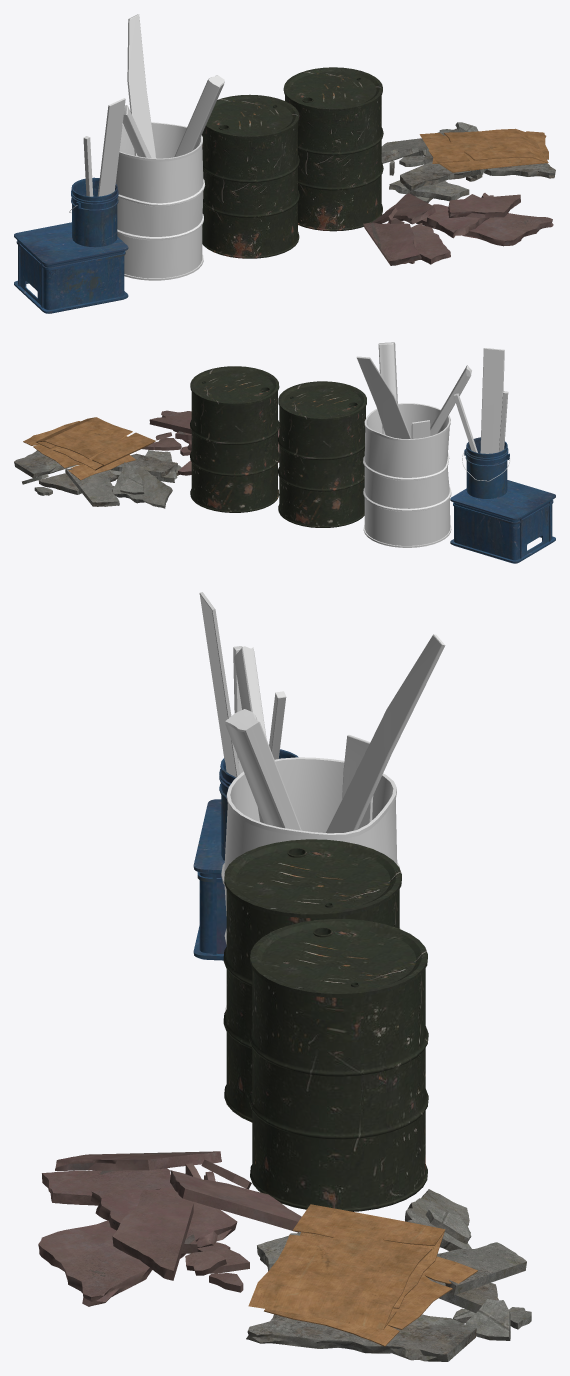
Rendered from BarrelsA.fbx.
3 views of the same model, one above another, from view 1: azimuth 30°, elevation 25°; view 2: azimuth 150°, elevation 25°; view 3: azimuth 270°, elevation 25° (orthographic). The views are drawn at different scales.
Visible parts, largest first — view 1: BarrelsA; view 2: BarrelsA; view 3: BarrelsA.
Boxes of the visible parts, bbox=[...] form: BarrelsA: bbox=[14, 14, 555, 313]; BarrelsA: bbox=[14, 342, 555, 563]; BarrelsA: bbox=[38, 592, 531, 1361].
Bounding box in the file's own units: 3.24 × 1.23 × 1.41.
